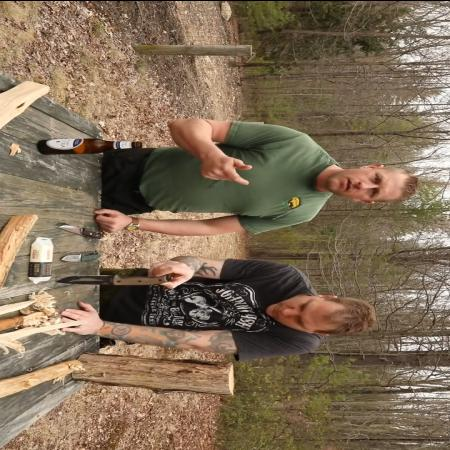long weapon: (56, 260, 185, 292)
